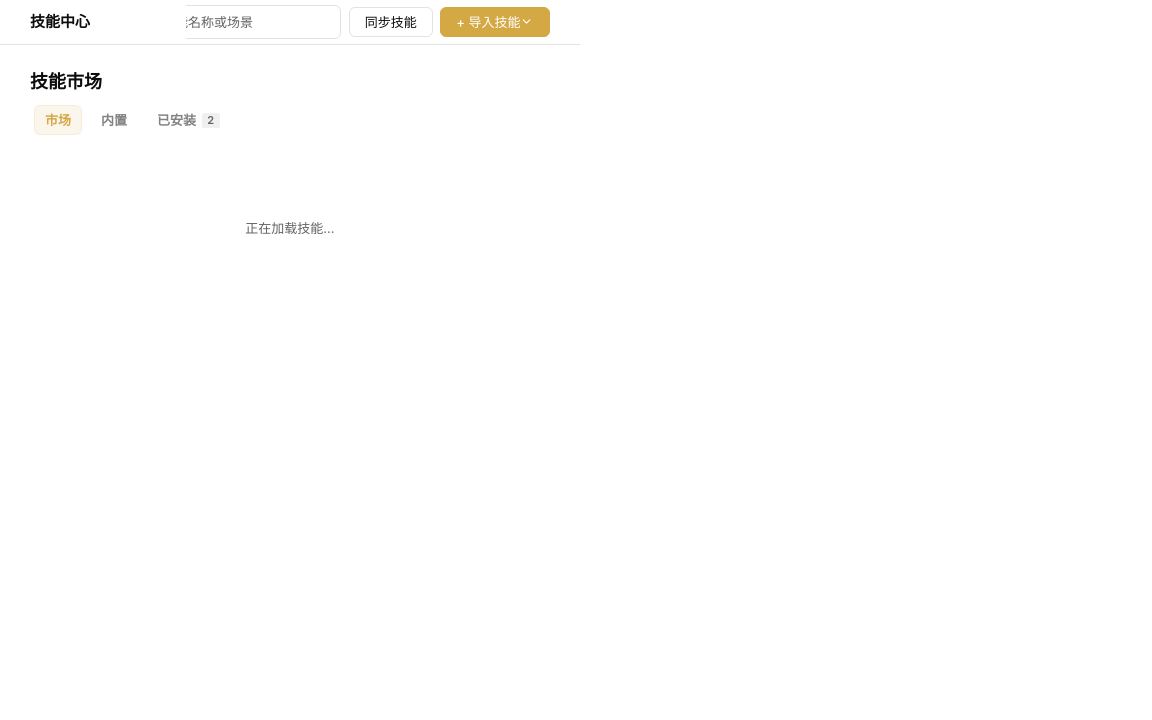
Test: SkillCenterPage › 切换到内置后卡片点击打开详情弹窗
Click the button "内置": (114, 120) [90,105,138,135]
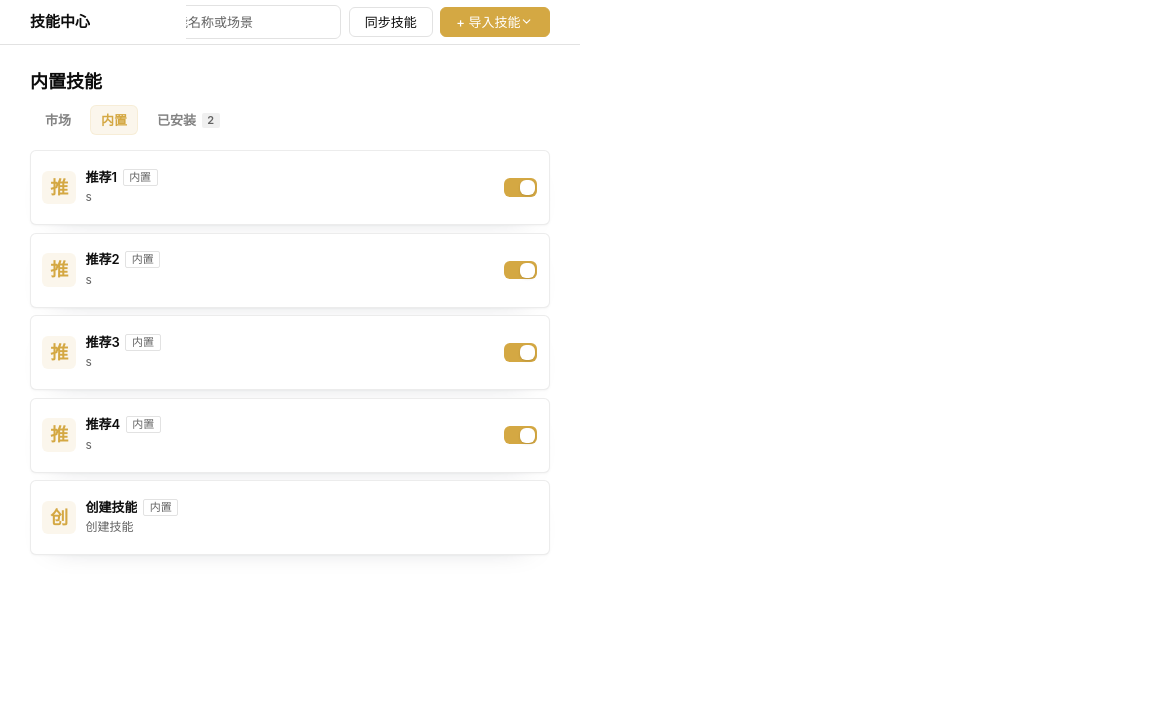
Now the button with test id "skill-card" is shown
Click the button with test id "skill-card": (59, 518) [30,480,550,555]
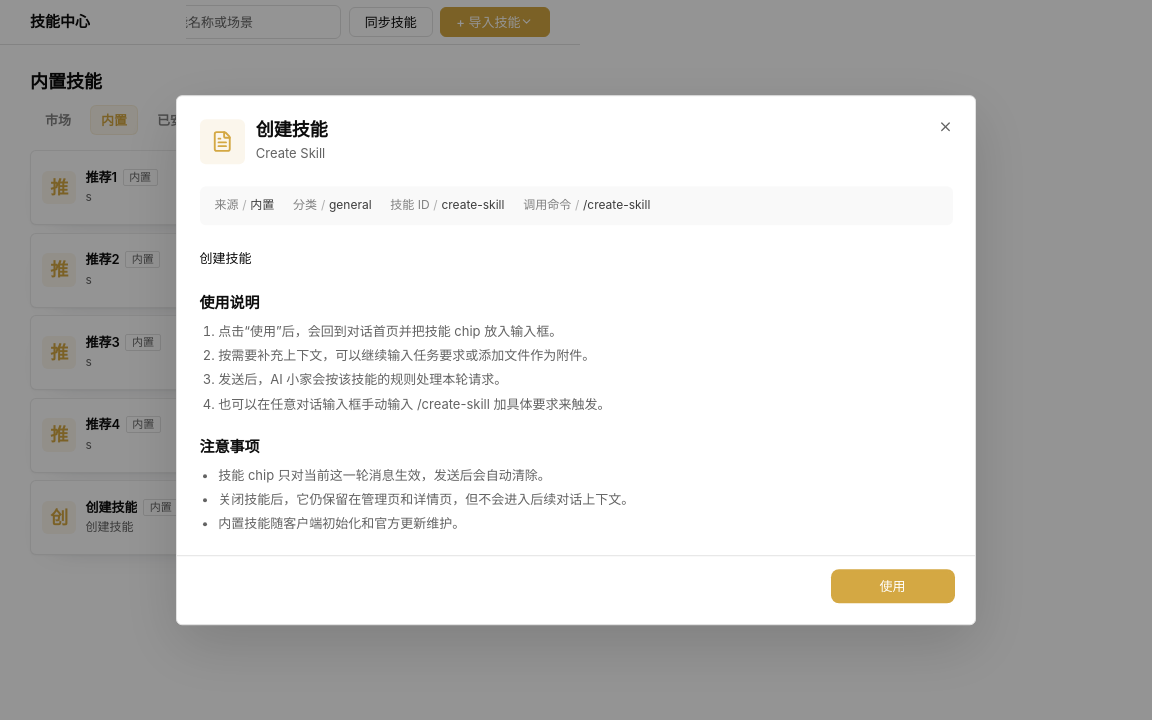
Now the dialog with test id "skill-detail-dialog" is shown, box [176,95,976,625]
Now the heading with test id "skill-detail-dialog-title" reads "创建技能", box [256,120,328,141]
